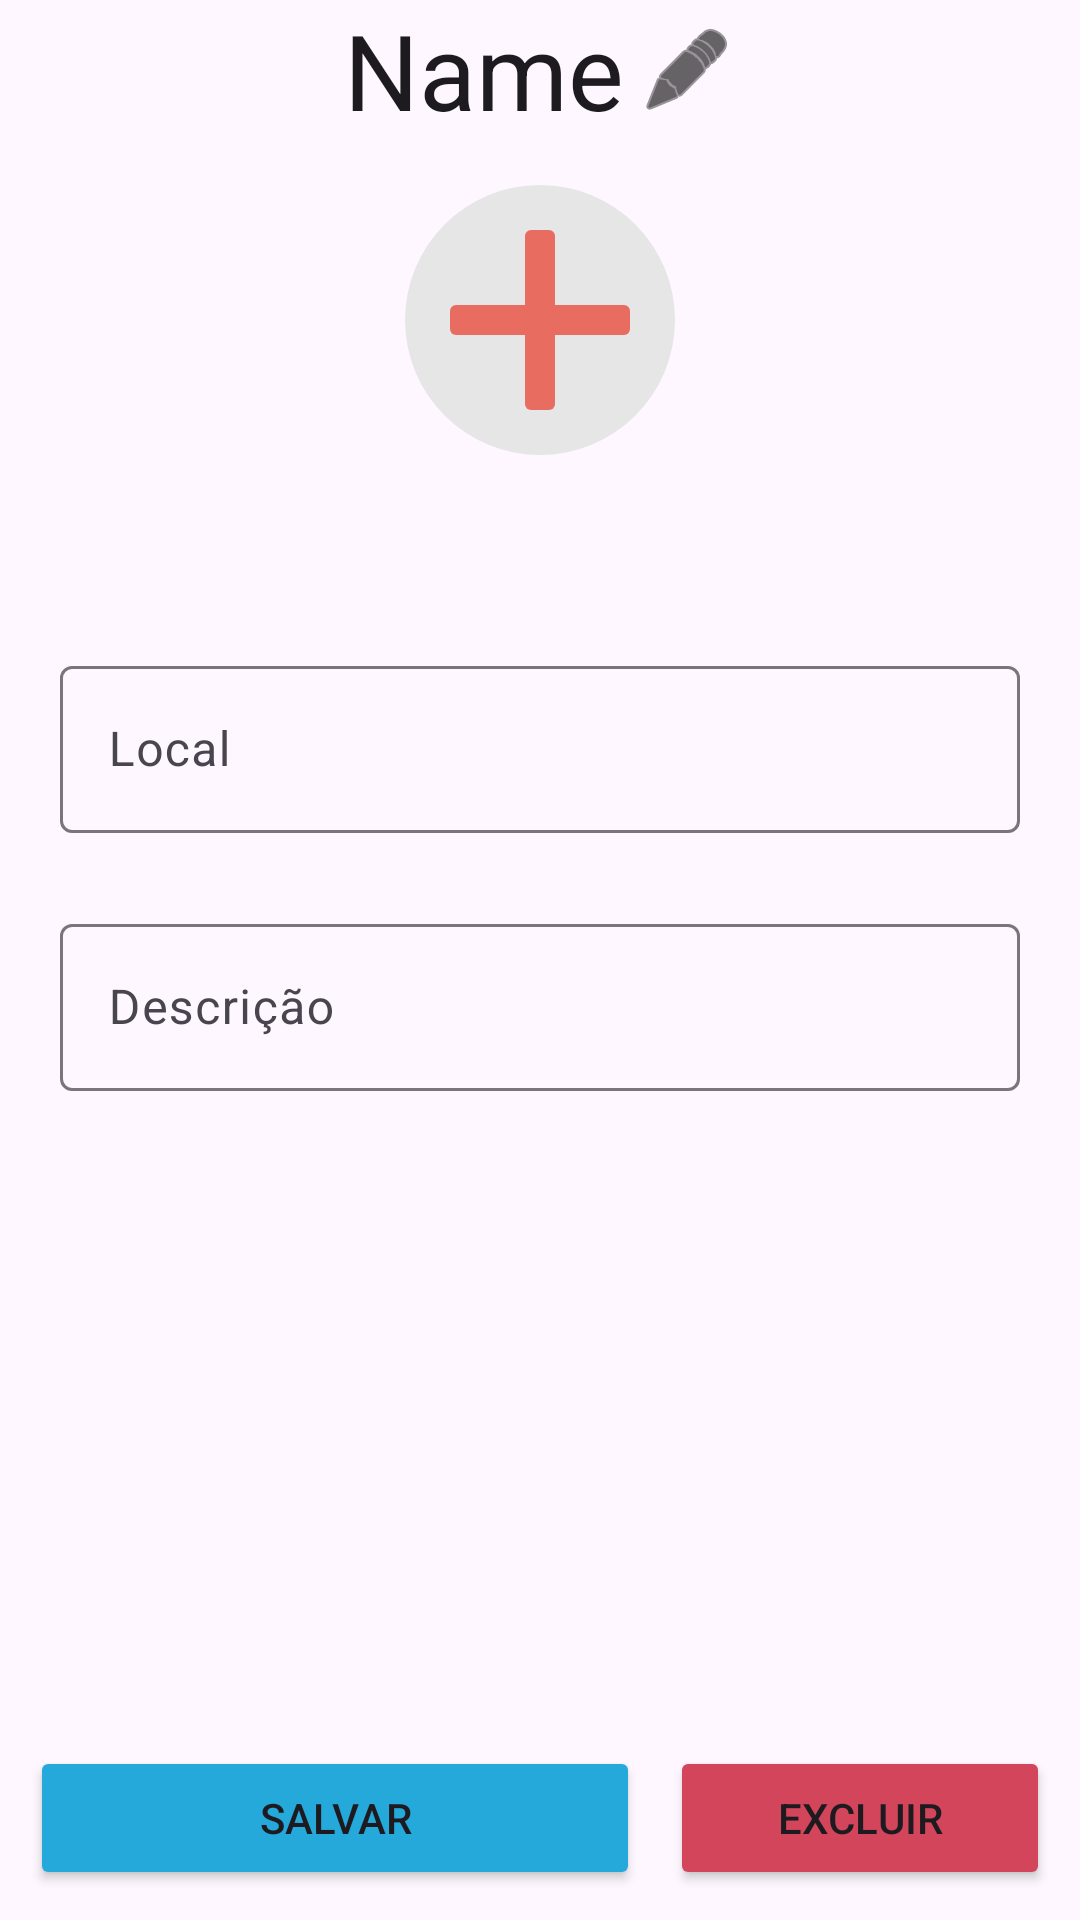

Icon click points for this 1080*1920 phone screenshot, format point (x, y):
edit: point (686, 69)
health: point (540, 320)
